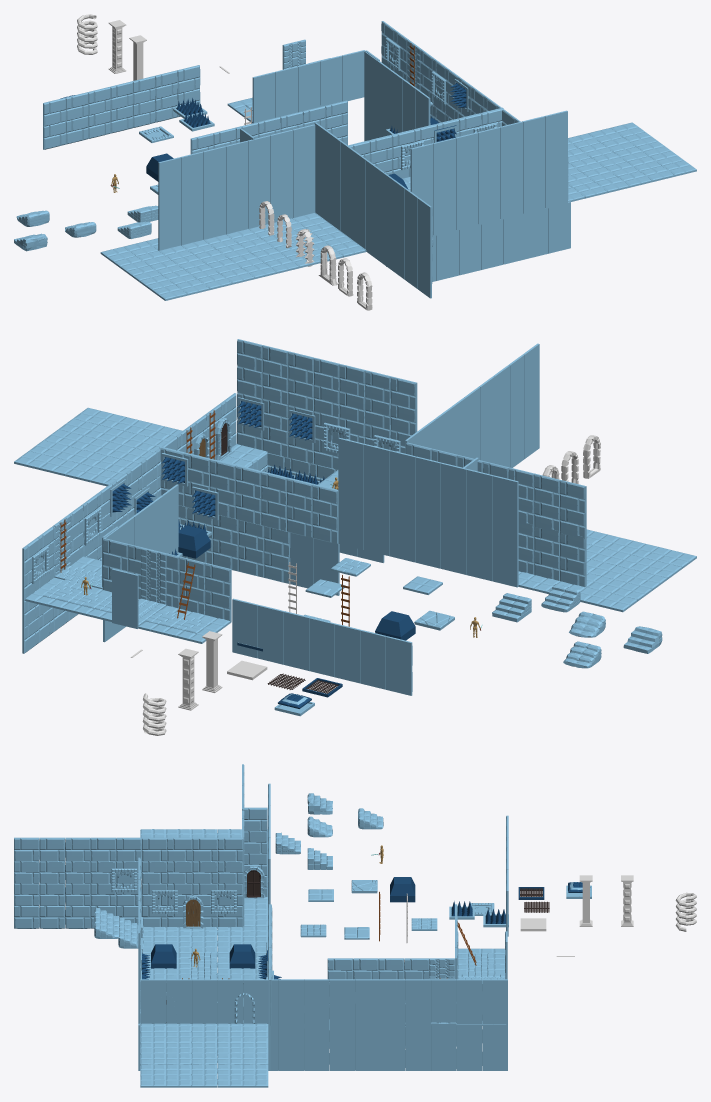
The model's file is bars door.fbx.
The picture shows the model from 3 angles, top to bottom: view 1: azimuth 30°, elevation 25°; view 2: azimuth 150°, elevation 25°; view 3: azimuth 270°, elevation 25°; orthographic projection. The views are drawn at different scales.
Parts seen in each view (by area): view 1: Cube.136, Cube.092, Cube.133, Cube.127, Cube.002, Cube.126, Cube.131, Cube.003, Cube.043, Cube.132, Cube.095, Cube.096 (+25 smaller); view 2: Cube.092, Cube.136, Cube.002, Cube.142, Cube.127, Cube.135, Cube.126, Cube.134, Cube.143, Cube.003, Cube.041, Cube.040 (+47 smaller); view 3: Cube.092, Cube.039, Cube.116, Cube.045, Cube.013, Cube.059, Cube.058, Cube.010, Cube.046, Cube.044, Cube.117, Cube.062 (+28 smaller).
Part boxes in pixels (x1,y1,x2,y2): Cube.136: [100, 224, 320, 300]; Cube.092: [568, 122, 696, 201]; Cube.133: [158, 124, 315, 186]; Cube.127: [410, 110, 567, 172]; Cube.002: [43, 65, 200, 126]; Cube.126: [410, 134, 567, 194]; Cube.131: [158, 168, 315, 228]; Cube.003: [43, 88, 200, 149]; Cube.043: [415, 157, 567, 213]; Cube.132: [158, 148, 315, 208]; Cube.095: [432, 225, 570, 281]; Cube.096: [432, 201, 570, 258]; Cube.092: [14, 407, 266, 486]; Cube.136: [518, 529, 696, 612]; Cube.002: [232, 598, 412, 669]; Cube.142: [338, 437, 518, 508]; Cube.127: [237, 339, 417, 409]; Cube.135: [338, 517, 518, 587]; Cube.126: [237, 366, 417, 435]; Cube.134: [338, 491, 518, 560]; Cube.143: [338, 465, 518, 534]; Cube.003: [232, 626, 412, 695]; Cube.041: [159, 447, 338, 517]; Cube.040: [160, 475, 338, 544]; Cube.092: [140, 1020, 268, 1087]; Cube.039: [141, 904, 267, 981]; Cube.116: [14, 837, 141, 861]; Cube.045: [141, 979, 268, 1003]; Cube.013: [380, 979, 507, 1003]; Cube.059: [380, 1025, 507, 1048]; Cube.058: [380, 1048, 507, 1070]; Cube.010: [380, 1002, 507, 1025]; Cube.046: [14, 883, 141, 906]; Cube.044: [141, 1002, 268, 1025]; Cube.117: [14, 861, 141, 883]; Cube.062: [261, 979, 380, 1003].
Bounding box in the file's own units: 7870 × 1777 × 8014.
